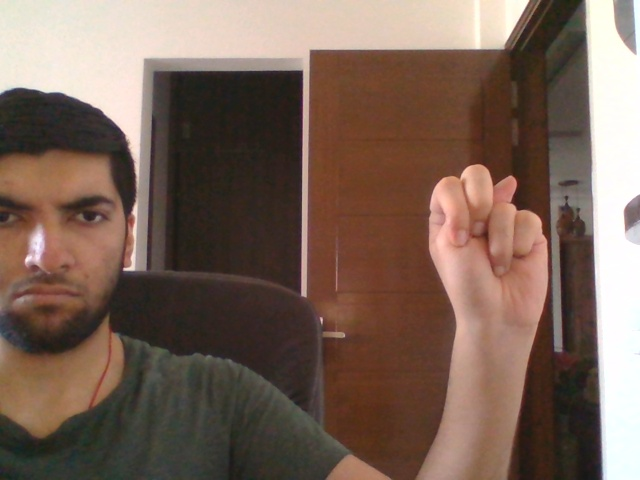LetterN: (426, 164, 550, 330)
